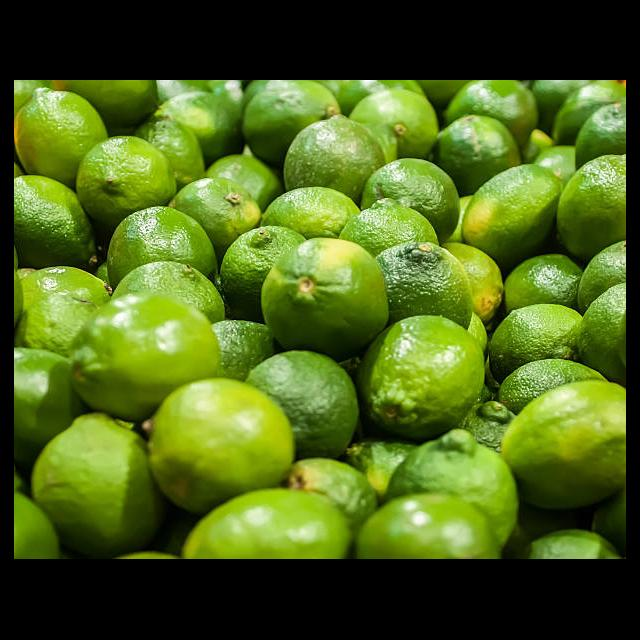lime: (148, 380, 296, 518), (261, 238, 390, 364), (16, 90, 109, 188)
